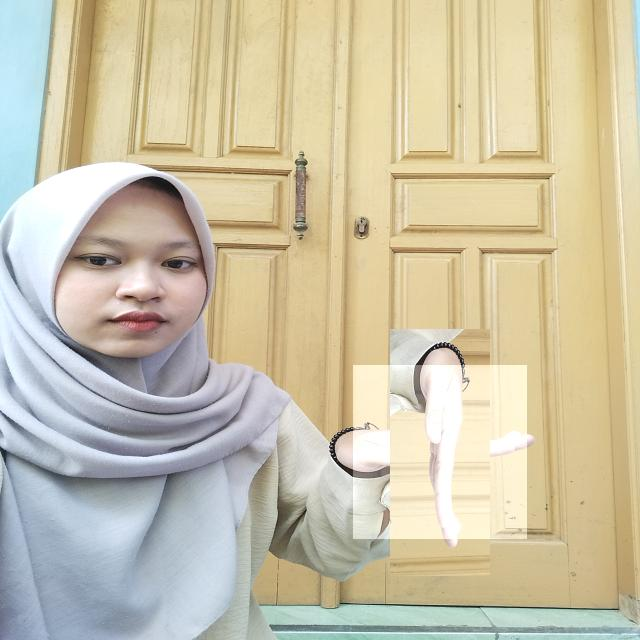adik: (353, 365, 527, 539)
